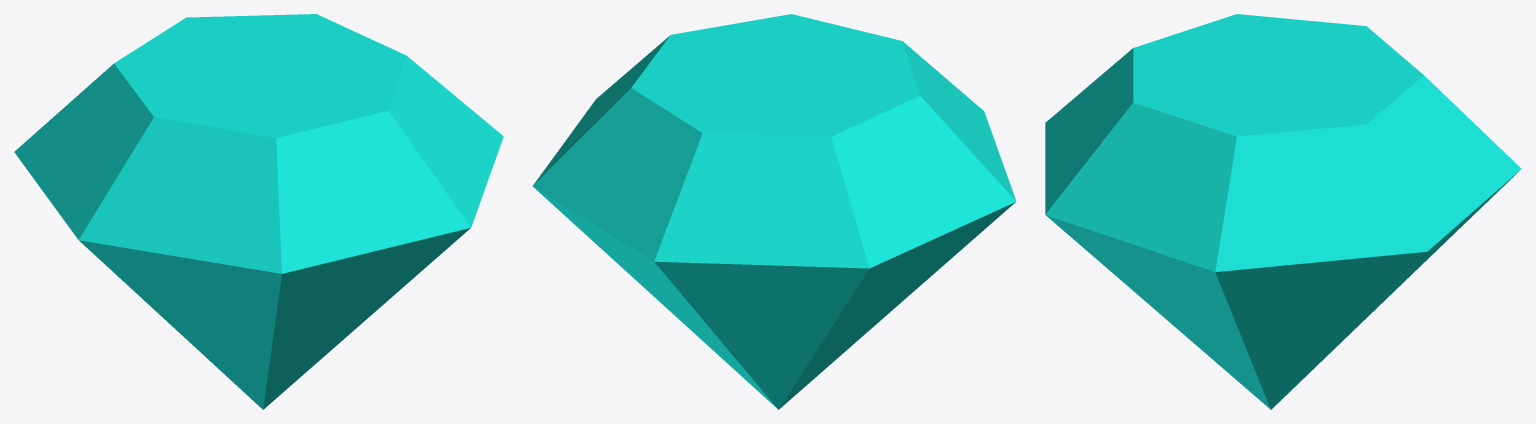
Rendered from pickup.fbx.
The picture shows the model from 3 angles, left to right: view 1: azimuth 30°, elevation 25°; view 2: azimuth 150°, elevation 25°; view 3: azimuth 270°, elevation 25°; orthographic projection.
Visible parts, largest first — view 1: Cylinder; view 2: Cylinder; view 3: Cylinder.
Part boxes in pixels (<box>): Cylinder: <box>14,14,503,409</box>; Cylinder: <box>532,14,1016,409</box>; Cylinder: <box>1045,14,1521,409</box>.
Bounding box in the file's own units: 195 × 147 × 190.
